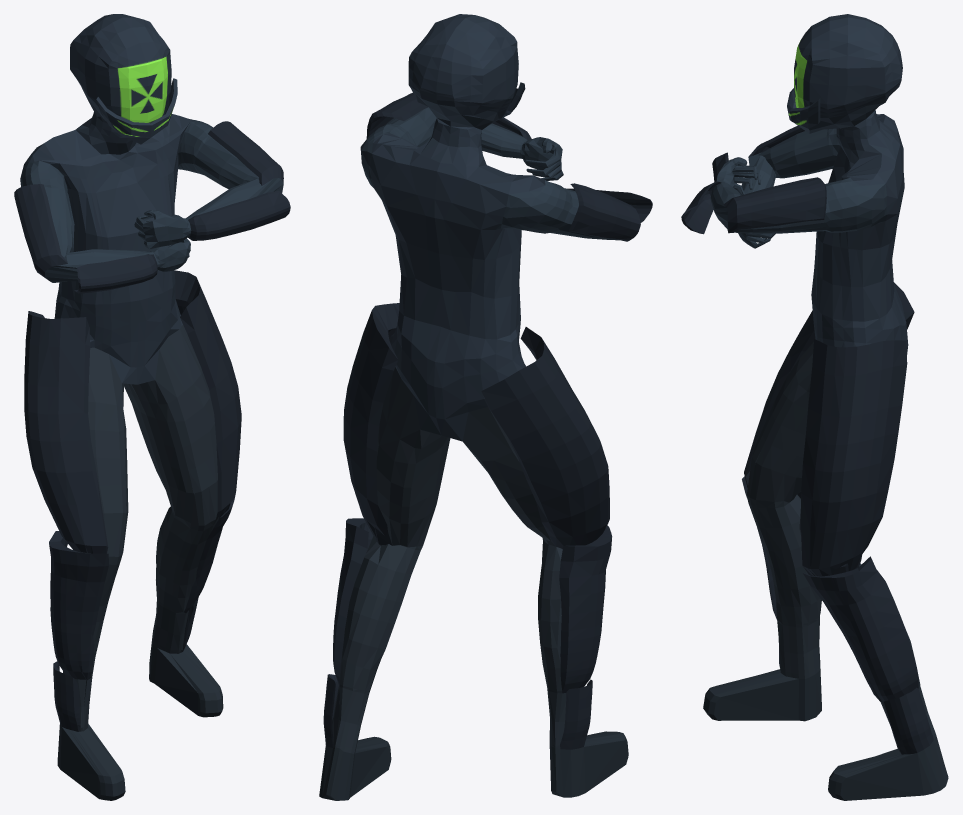
Rendered from Bastion_WB_000015.obj.
3 views of the same model, side by side, from view 1: azimuth 30°, elevation 25°; view 2: azimuth 150°, elevation 25°; view 3: azimuth 270°, elevation 25° (orthographic). The views are drawn at different scales.
Visible parts, largest first — view 1: Cube.002; view 2: Cube.002; view 3: Cube.002.
Part boxes in pixels (box(x1,y1,x2,y2)): Cube.002: box(14, 14, 290, 800); Cube.002: box(319, 14, 652, 800); Cube.002: box(681, 14, 948, 800).
Size of the model in its own units: 1.32 by 3.78 by 1.25.
